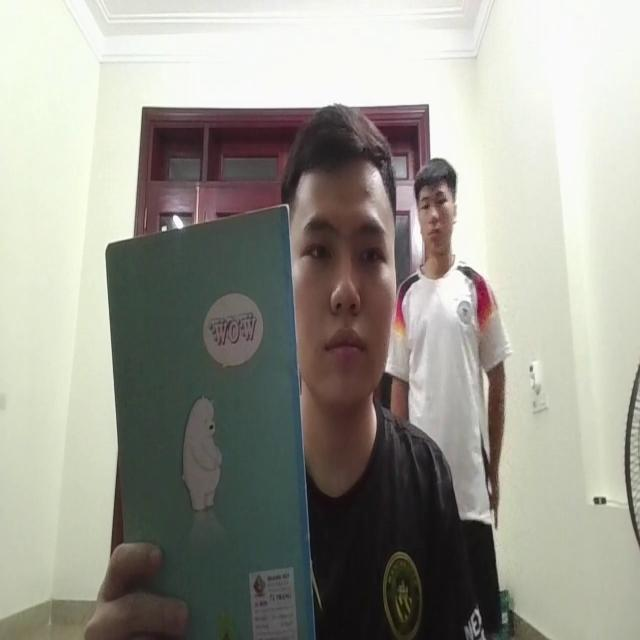book: (98, 212, 310, 640)
extra_person: (398, 150, 502, 537)
student: (281, 113, 485, 640)
